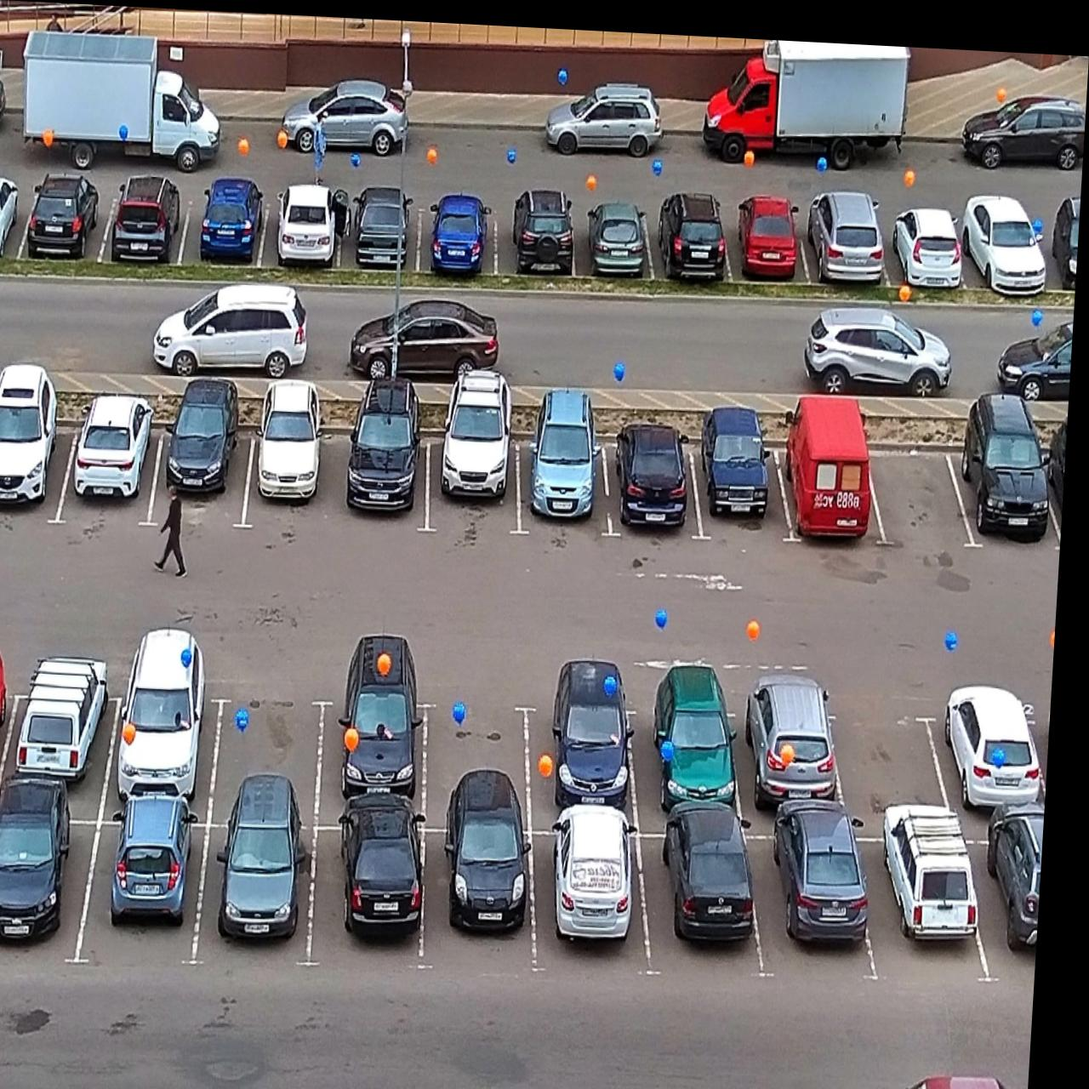cars: (743, 827, 885, 984), (628, 816, 765, 971), (856, 817, 980, 978), (527, 823, 659, 972), (89, 800, 206, 968), (189, 821, 325, 964), (408, 824, 537, 969), (928, 672, 1052, 820), (314, 665, 430, 819), (731, 678, 845, 826), (309, 819, 426, 963), (528, 669, 640, 816), (8, 661, 120, 805), (627, 681, 742, 814), (0, 800, 93, 959), (954, 422, 1065, 550), (119, 660, 220, 796), (962, 168, 1063, 303), (772, 433, 889, 545), (338, 415, 440, 541), (686, 431, 796, 545), (153, 411, 260, 525), (244, 410, 348, 524), (602, 427, 706, 541), (65, 408, 161, 527), (424, 422, 526, 533), (104, 170, 203, 282), (799, 179, 895, 293), (720, 175, 814, 290), (513, 427, 612, 534), (881, 190, 973, 297), (574, 181, 664, 288), (344, 179, 433, 285), (493, 182, 580, 290), (267, 168, 353, 276), (184, 180, 274, 283), (0, 394, 69, 526), (651, 192, 733, 300), (416, 178, 499, 284), (29, 175, 117, 273)
empty: (814, 684, 947, 827), (417, 666, 540, 813), (212, 678, 320, 818), (866, 440, 973, 549)
